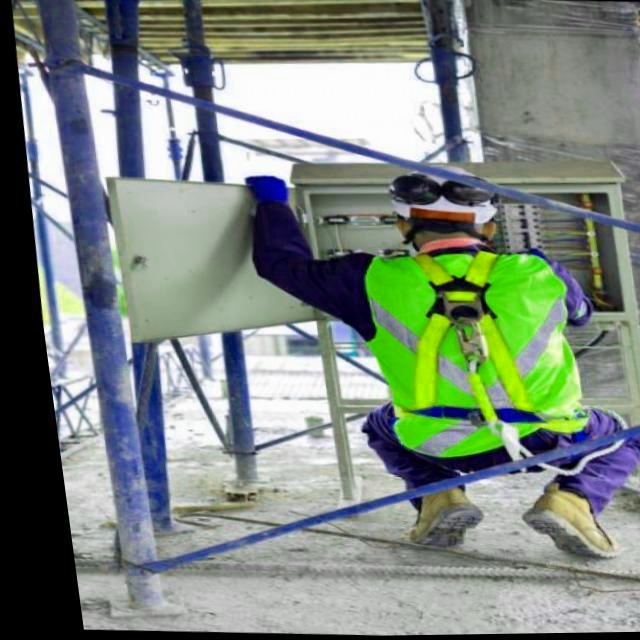safety belt: (349, 251, 612, 486)
